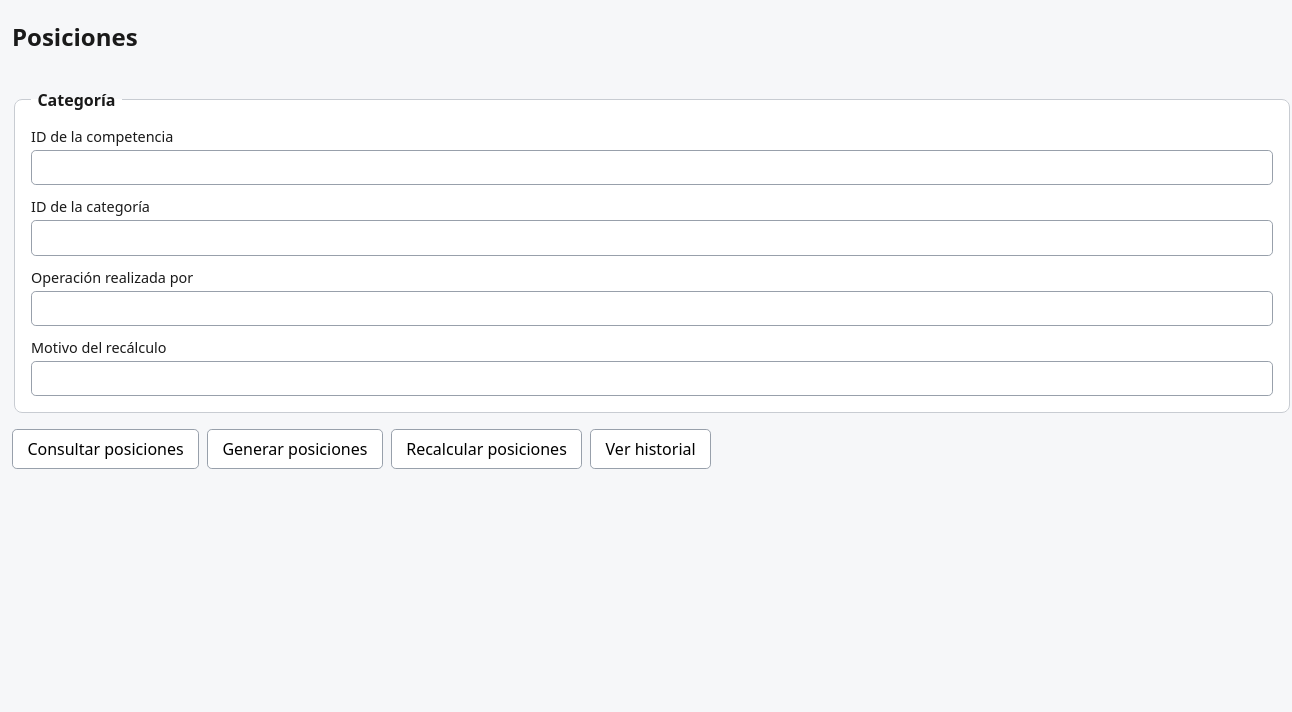
Test: StandingsPage › shows the latest revision in the order given by the API
Type "COMPETITION-1" into the field labelled "ID de la competencia" at [652, 168], box [31,150,1273,185]
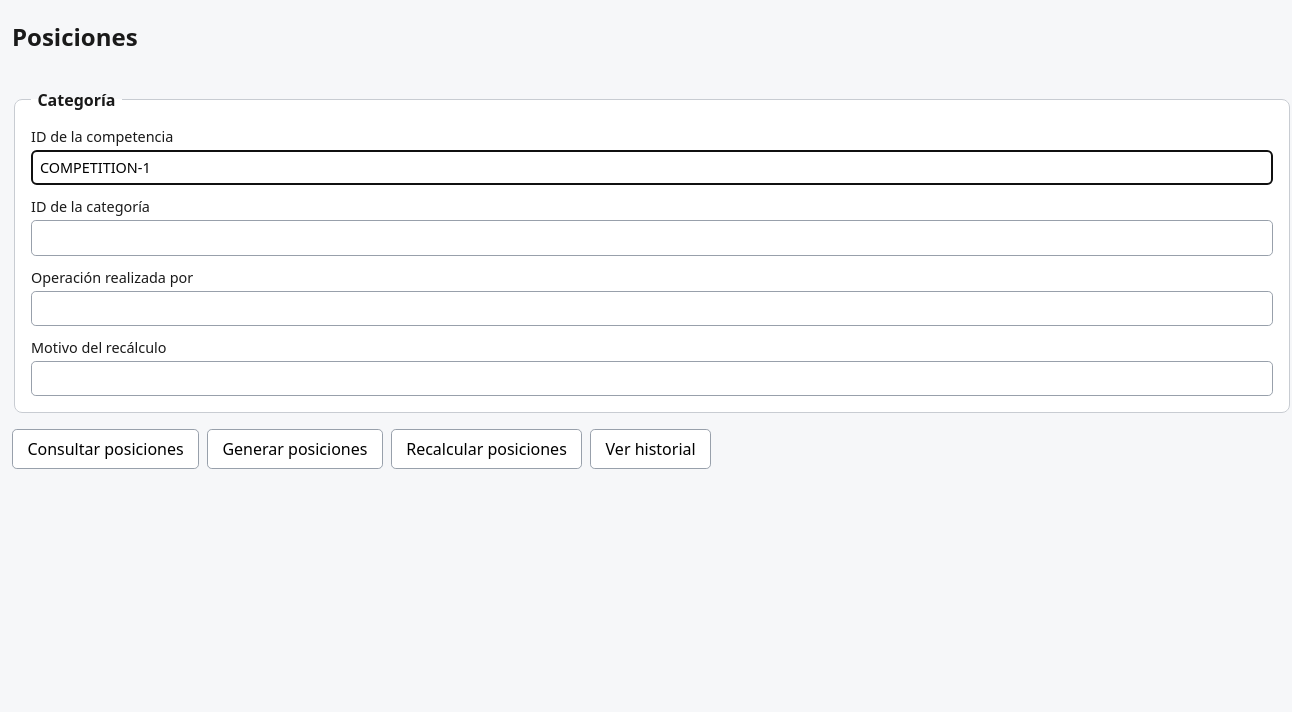
Type "CATEGORY-1" into the field labelled "ID de la categoría" at [652, 238], box [31,220,1273,256]
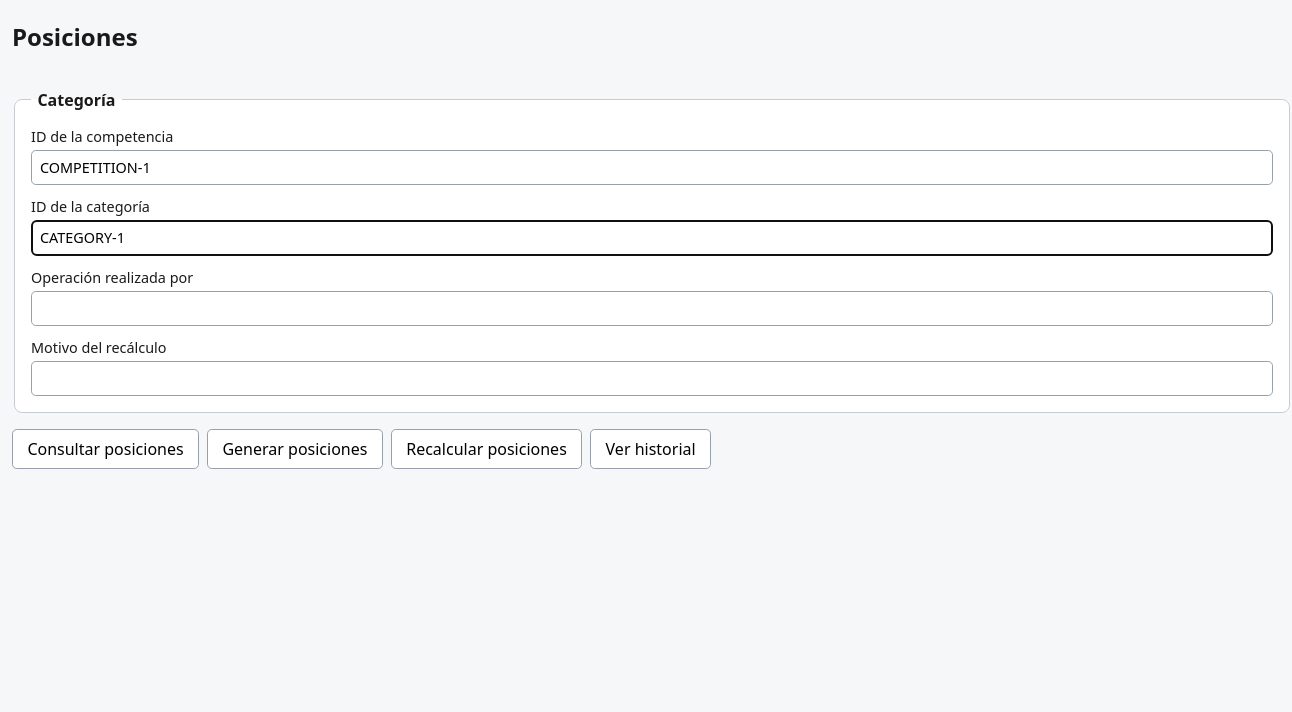
Click the button "Consultar posiciones" at [106, 449], box [12,429,199,469]
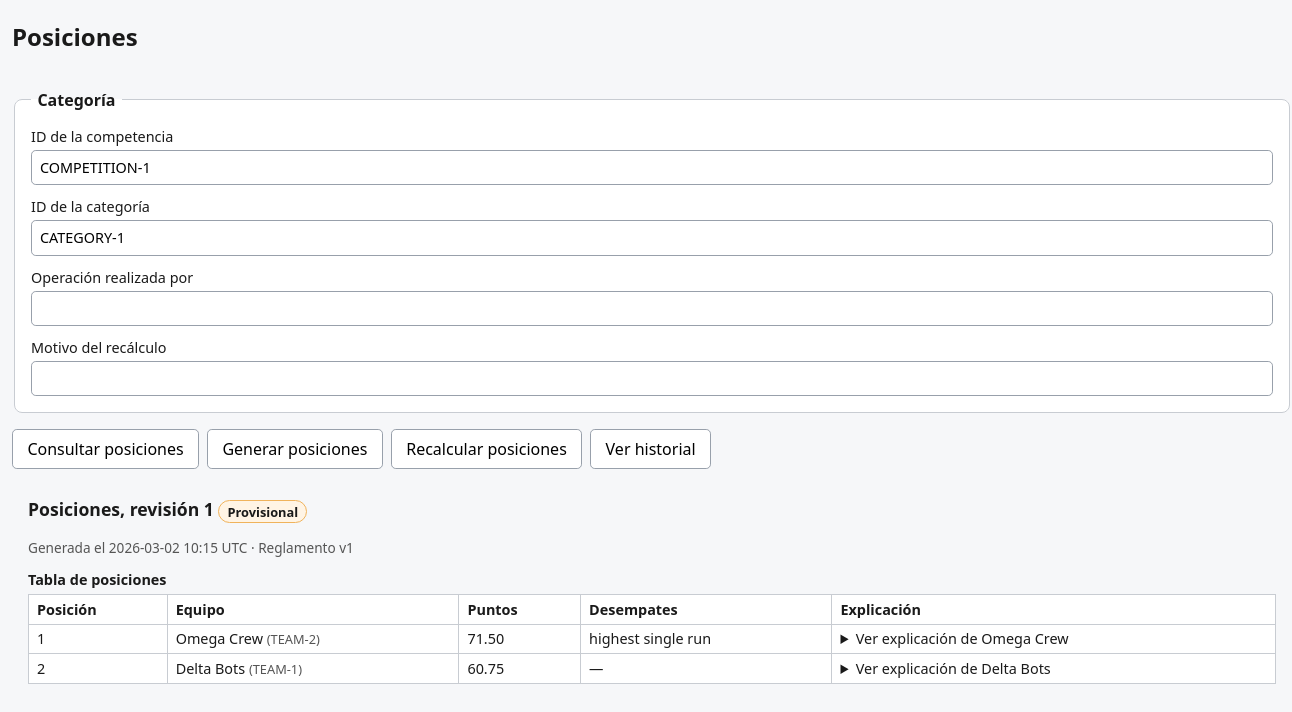
Expected: the heading "Posiciones, revisión 1 Provisional" is shown, [28,497,307,523]
Expected: the text "Generada el 2026-03-02 10:15 UTC · Reglamento v1" is shown, [28,538,354,557]
